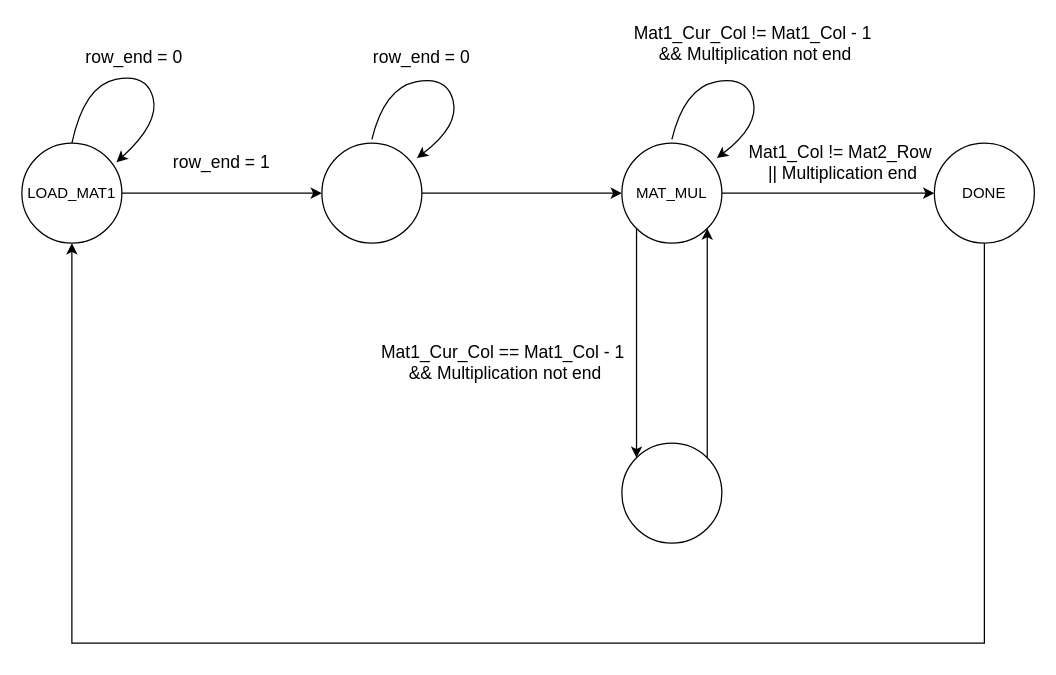
Some shapes in this 1056 by 675 pixel diagram are drawn without their labels. Each missing label, with the centre of its shape:
"LOAD_MAT2" goes at (x=371, y=192).
"VALIDATION" goes at (x=671, y=492).
